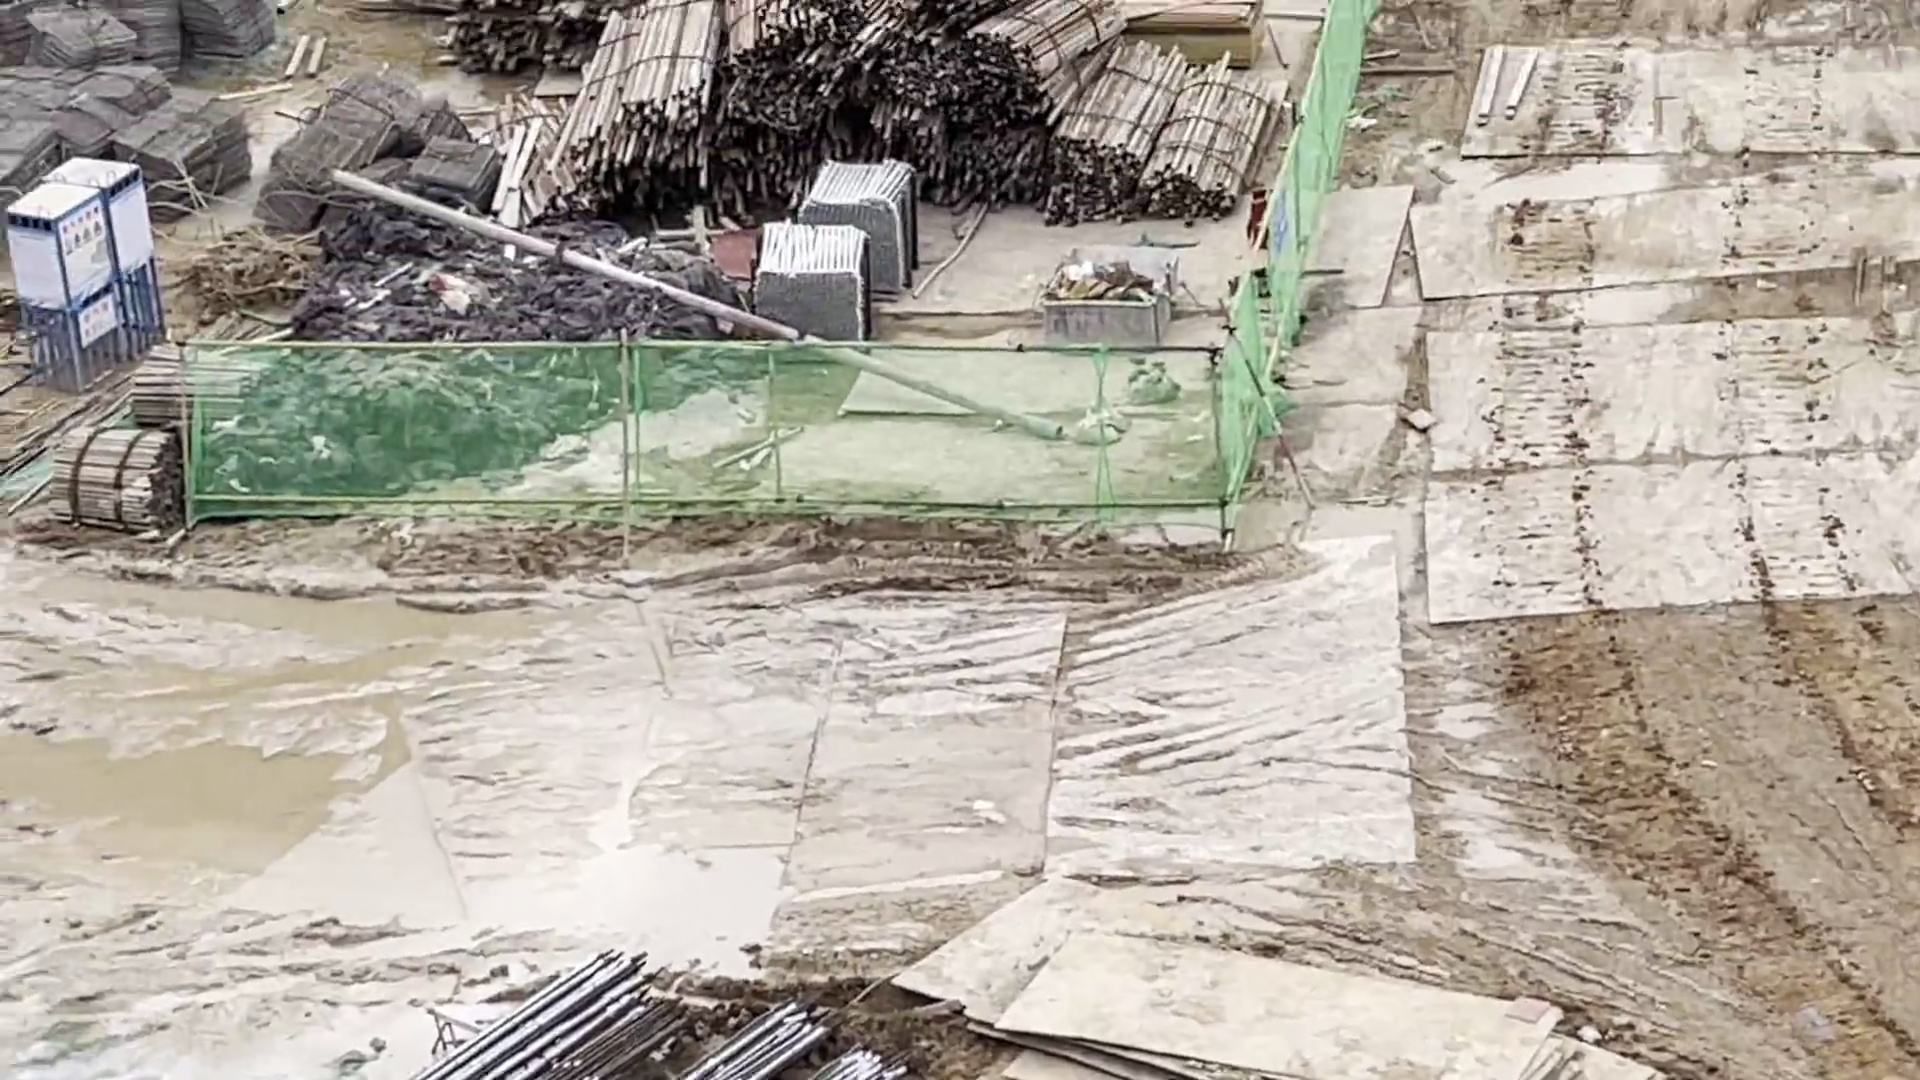hopper: (1052, 251, 1179, 342)
rebar: (431, 949, 866, 1080)
scaffold: (806, 156, 907, 282), (760, 222, 860, 342)
wood: (579, 3, 1247, 216), (54, 431, 167, 521), (145, 348, 247, 430)
